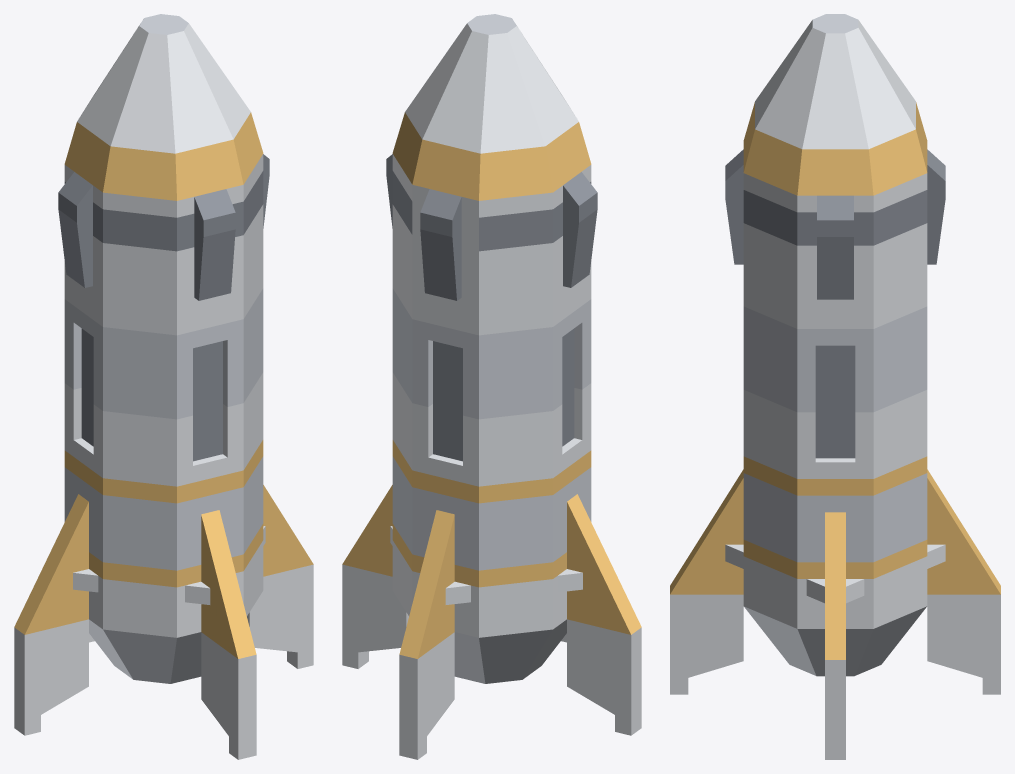
Rendered from SpaceShuttle.fbx.
3 renders of one model, left to right at view 1: azimuth 30°, elevation 25°; view 2: azimuth 150°, elevation 25°; view 3: azimuth 270°, elevation 25°, orthographic.
Parts seen in each view (by area): view 1: rocket_topA1; view 2: rocket_topA1; view 3: rocket_topA1.
Part boxes in pixels (<box>): rocket_topA1: <box>14,14,313,759</box>; rocket_topA1: <box>342,14,641,759</box>; rocket_topA1: <box>670,14,1000,759</box>.
Bounding box in the file's own units: 2.7 × 6 × 2.7.
